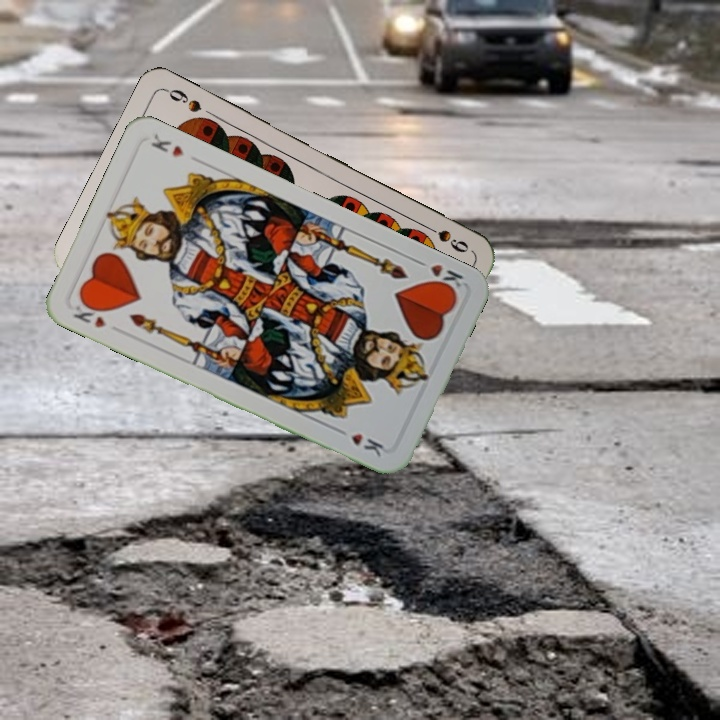HK: (411, 255, 466, 296), (69, 296, 109, 331)
S9: (418, 220, 471, 256)
